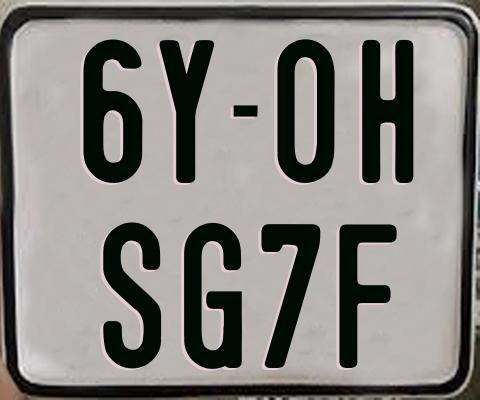0: (277, 39, 335, 184)
6: (81, 39, 145, 183)
7: (261, 222, 327, 367)
F: (336, 221, 398, 370)
G: (181, 220, 244, 368)
H: (360, 40, 415, 184)
S: (101, 221, 161, 373)
Y: (156, 38, 217, 184)
